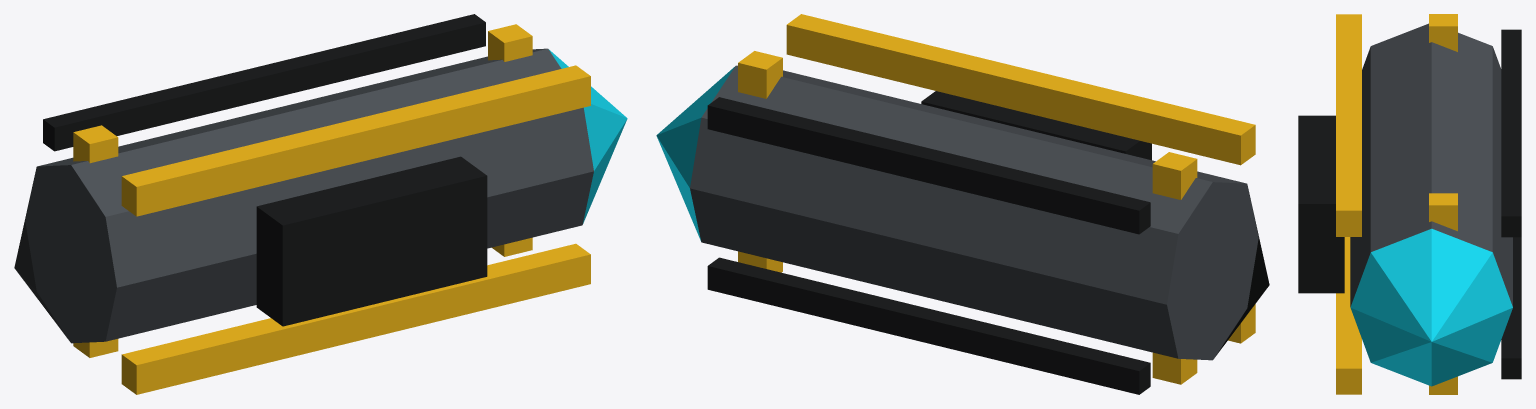
File: rov_visual.obj
3 views of the same model, side by side, from view 1: azimuth 30°, elevation 25°; view 2: azimuth 150°, elevation 25°; view 3: azimuth 270°, elevation 25° (orthographic). The views are drawn at different scales.
Visible parts, largest first — view 1: main_hull, top_equipment_box, left_upper_frame, right_upper_frame, left_lower_skid, forward_nose, rear_cross_frame, front_cross_frame, aft_cap; view 2: main_hull, left_upper_frame, right_lower_skid, left_lower_skid, top_equipment_box, forward_nose, rear_cross_frame, front_cross_frame, aft_cap, right_upper_frame; view 3: main_hull, forward_nose, top_equipment_box, left_upper_frame, left_lower_skid, right_upper_frame, right_lower_skid, front_cross_frame, rear_cross_frame.
Boxes of the visible parts, <box> form: main_hull: <box>25,48,593,343</box>; top_equipment_box: <box>256,156,487,326</box>; left_upper_frame: <box>121,65,590,216</box>; right_upper_frame: <box>121,243,590,394</box>; left_lower_skid: <box>43,14,485,151</box>; forward_nose: <box>549,49,627,223</box>; rear_cross_frame: <box>73,125,118,357</box>; front_cross_frame: <box>488,24,532,256</box>; aft_cap: <box>14,178,68,339</box>; main_hull: <box>690,65,1258,360</box>; left_upper_frame: <box>786,14,1255,165</box>; right_lower_skid: <box>707,257,1150,394</box>; left_lower_skid: <box>707,97,1150,234</box>; top_equipment_box: <box>921,91,1151,160</box>; forward_nose: <box>656,66,735,241</box>; rear_cross_frame: <box>1152,152,1197,384</box>; front_cross_frame: <box>738,51,782,272</box>; aft_cap: <box>1214,195,1269,358</box>; right_upper_frame: <box>1228,304,1255,343</box>; main_hull: <box>1350,23,1512,306</box>; forward_nose: <box>1350,228,1512,386</box>; top_equipment_box: <box>1298,115,1344,293</box>; left_upper_frame: <box>1336,14,1361,236</box>; left_lower_skid: <box>1501,29,1521,237</box>; right_upper_frame: <box>1336,237,1361,394</box>; right_lower_skid: <box>1501,237,1521,379</box>; front_cross_frame: <box>1429,193,1457,394</box>; rear_cross_frame: <box>1429,14,1457,51</box>.
Bounding box in the file's own units: 1.08 × 0.36 × 0.385.
